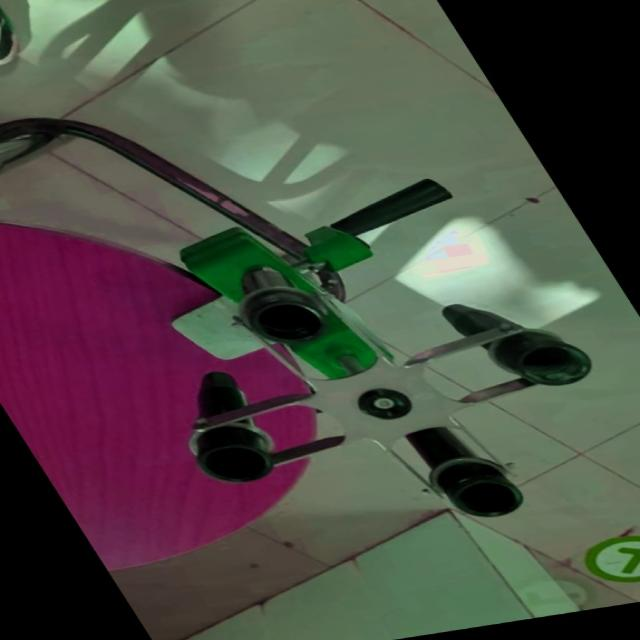Centrifuge: (53, 167, 640, 570)
